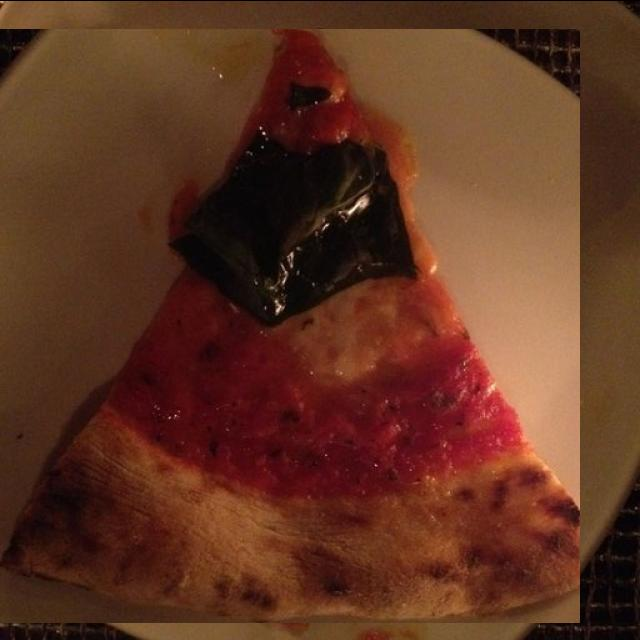basil: (158, 321, 414, 512)
pizza: (0, 28, 580, 622)
